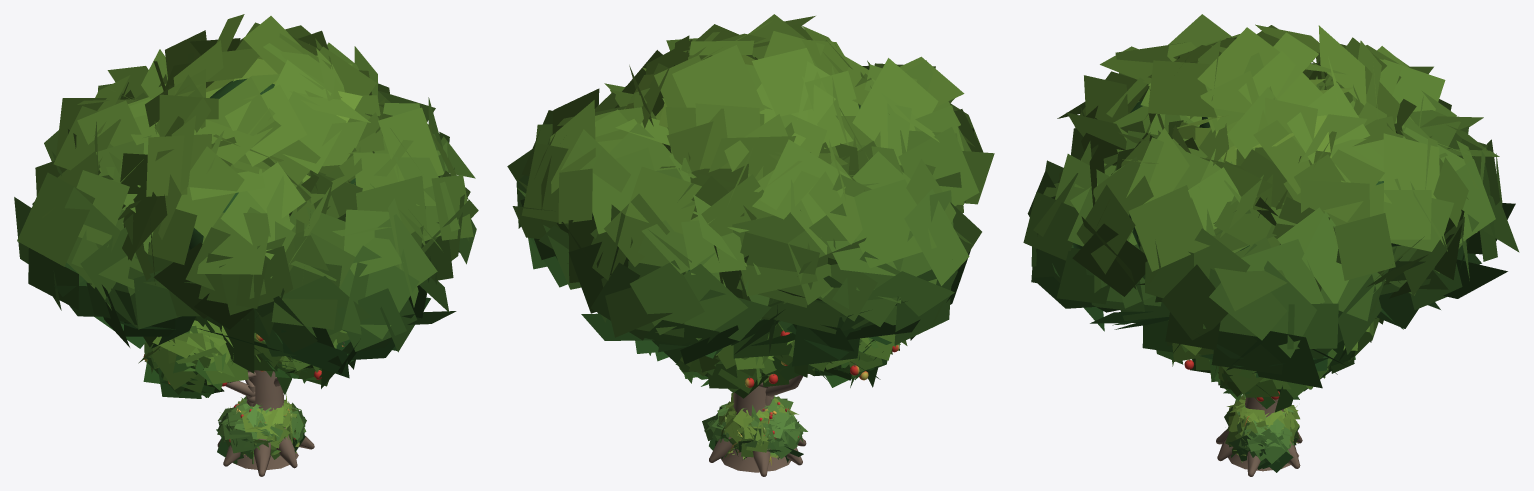
File: vegetation.glb
3 views of the same model, side by side, from view 1: azimuth 30°, elevation 25°; view 2: azimuth 150°, elevation 25°; view 3: azimuth 270°, elevation 25° (orthographic). The views are drawn at different scales.
Visible parts, largest first — view 1: tree_oak, tree_apple_b, tree_apple_a, tree_far, bush_b, bush_a; view 2: tree_oak, tree_apple_b, bush_b, tree_apple_a, bush_a, tree_far; view 3: tree_oak, tree_apple_b, tree_far, bush_b, bush_a, tree_apple_a.
Boxes of the visible parts, x1,y1,x2,y2 form: tree_oak: (14, 14, 478, 476); tree_apple_b: (138, 320, 346, 406); tree_apple_a: (143, 325, 349, 398); tree_far: (143, 44, 362, 373); bush_b: (216, 396, 306, 464); bush_a: (224, 393, 303, 459); tree_oak: (507, 14, 994, 476); tree_apple_b: (675, 334, 907, 408); bush_b: (702, 396, 807, 462); tree_apple_a: (699, 323, 900, 387); bush_a: (714, 393, 798, 459); tree_far: (625, 55, 795, 358); tree_oak: (1023, 14, 1519, 476); tree_apple_b: (1167, 317, 1379, 412); tree_far: (1142, 79, 1358, 366); bush_b: (1224, 394, 1299, 472); bush_a: (1225, 395, 1299, 457); tree_apple_a: (1146, 318, 1383, 401).
Bounding box in the file's own units: 8.05 × 7.51 × 7.88.
